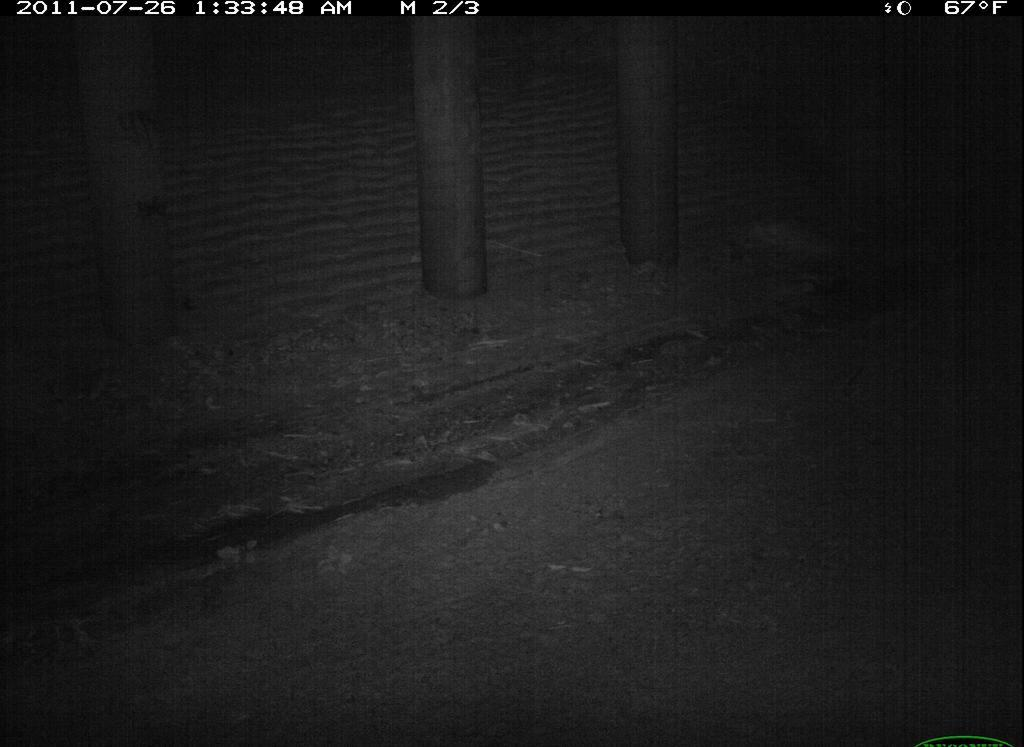raccoon: (7, 4, 1024, 747)
